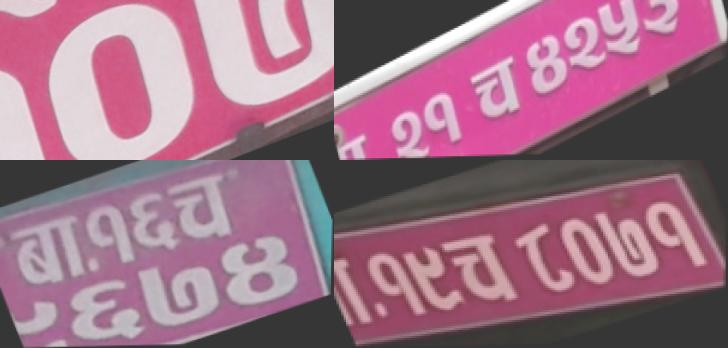0: (20, 0, 225, 160), (550, 205, 626, 294)
1: (0, 42, 79, 160), (634, 190, 720, 284), (356, 240, 434, 330), (75, 198, 142, 276), (419, 80, 472, 158)
2: (557, 5, 614, 92), (383, 100, 435, 159)
3: (631, 0, 689, 51)
4: (206, 225, 308, 317), (519, 25, 576, 110)
5: (592, 0, 649, 72)
6: (54, 267, 151, 347), (115, 184, 188, 264)
7: (171, 0, 334, 124), (126, 244, 230, 339), (592, 200, 668, 287)
8: (506, 216, 585, 306)
9: (398, 234, 472, 319), (7, 289, 78, 348)
ba: (0, 206, 103, 298), (334, 243, 383, 330), (334, 121, 384, 160)
cha: (437, 220, 531, 316), (162, 165, 250, 254), (461, 46, 532, 140)
